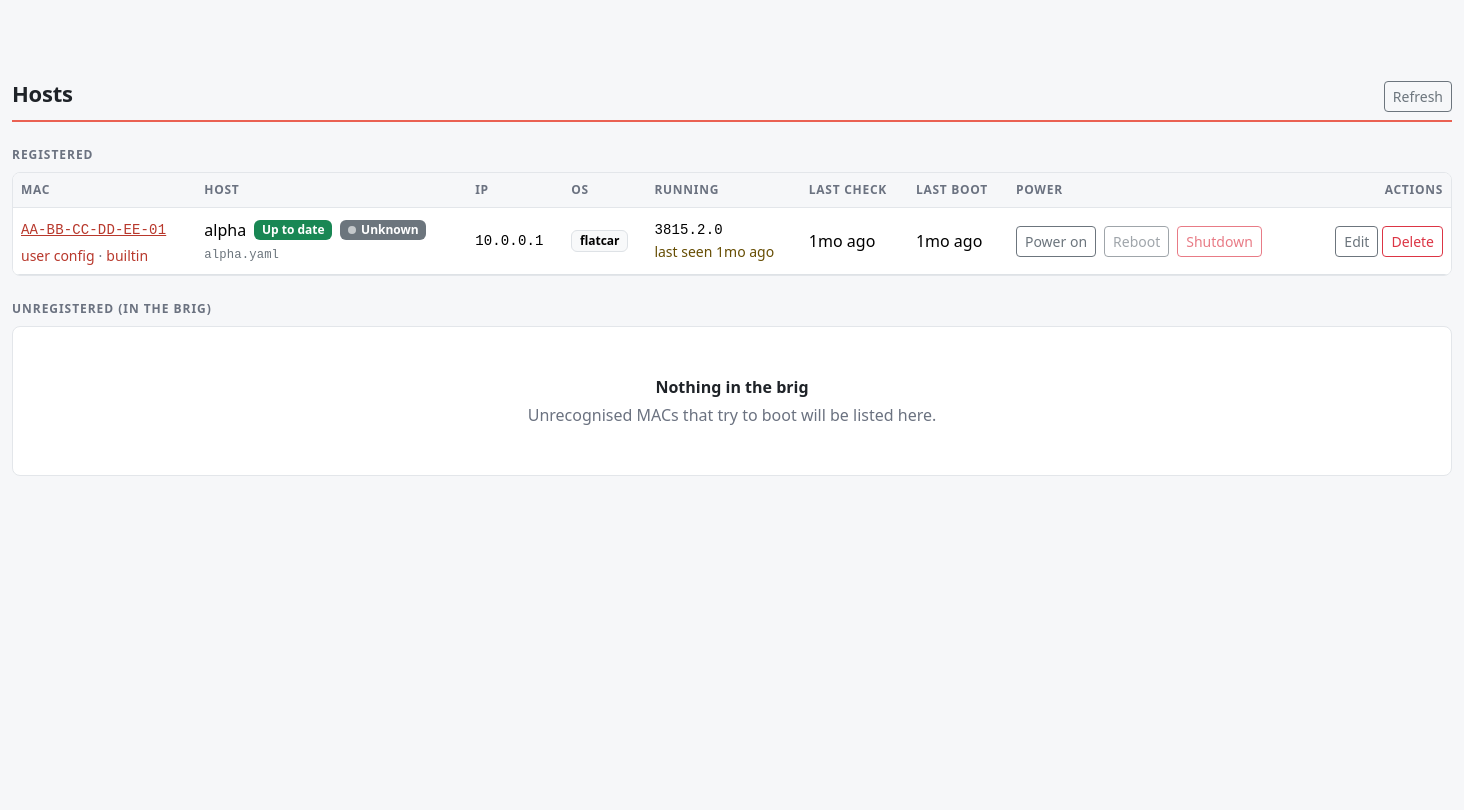
HostsView › replaces the row key with the normalized MAC returned by the server on save
Click the button "Edit": (1357, 241) [1335,226,1378,256]
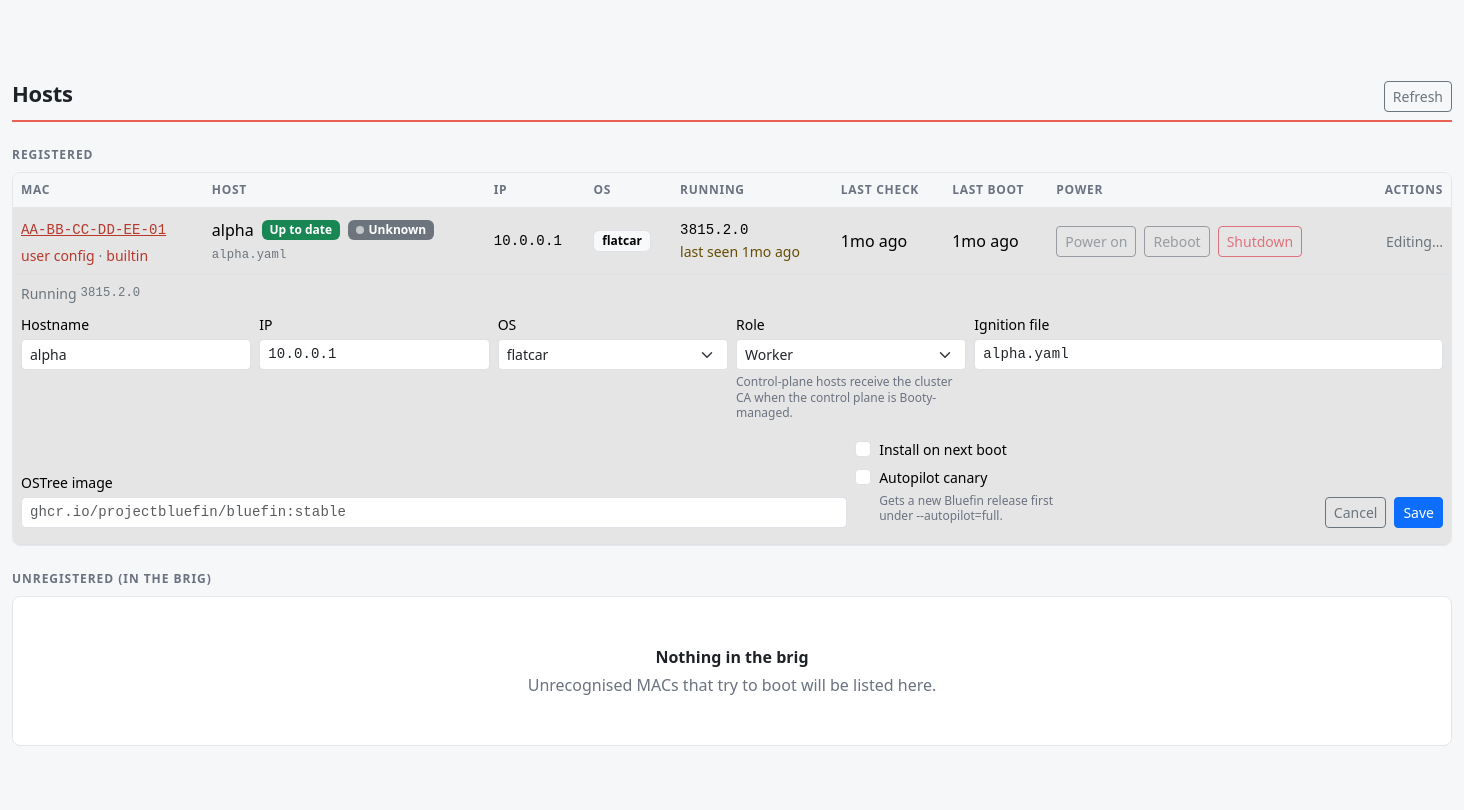
Replace the text in the field labelled "Hostname" with "alpha-2": (136, 354) [21,339,251,370]
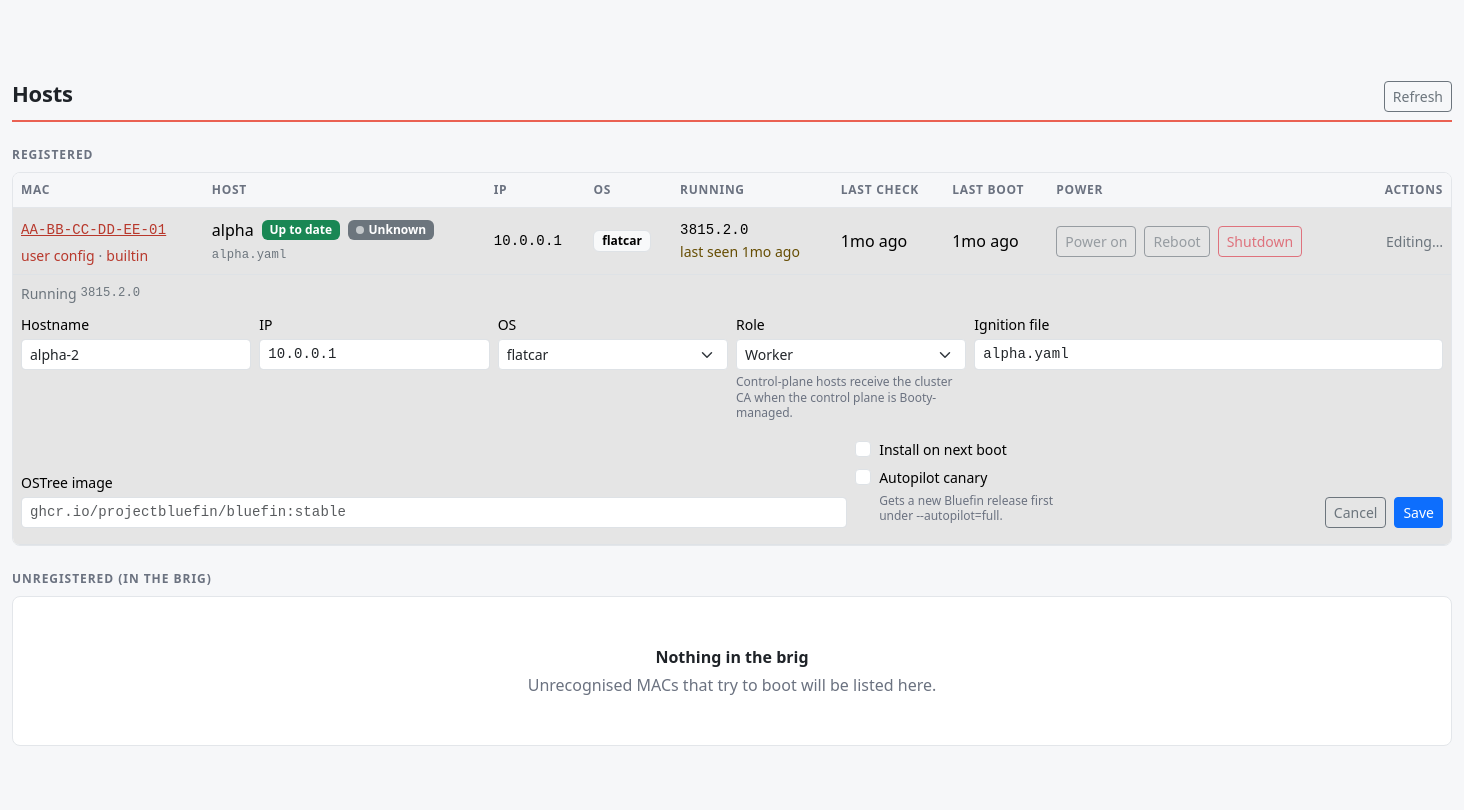
Submit the form, box [21,275,1443,536]
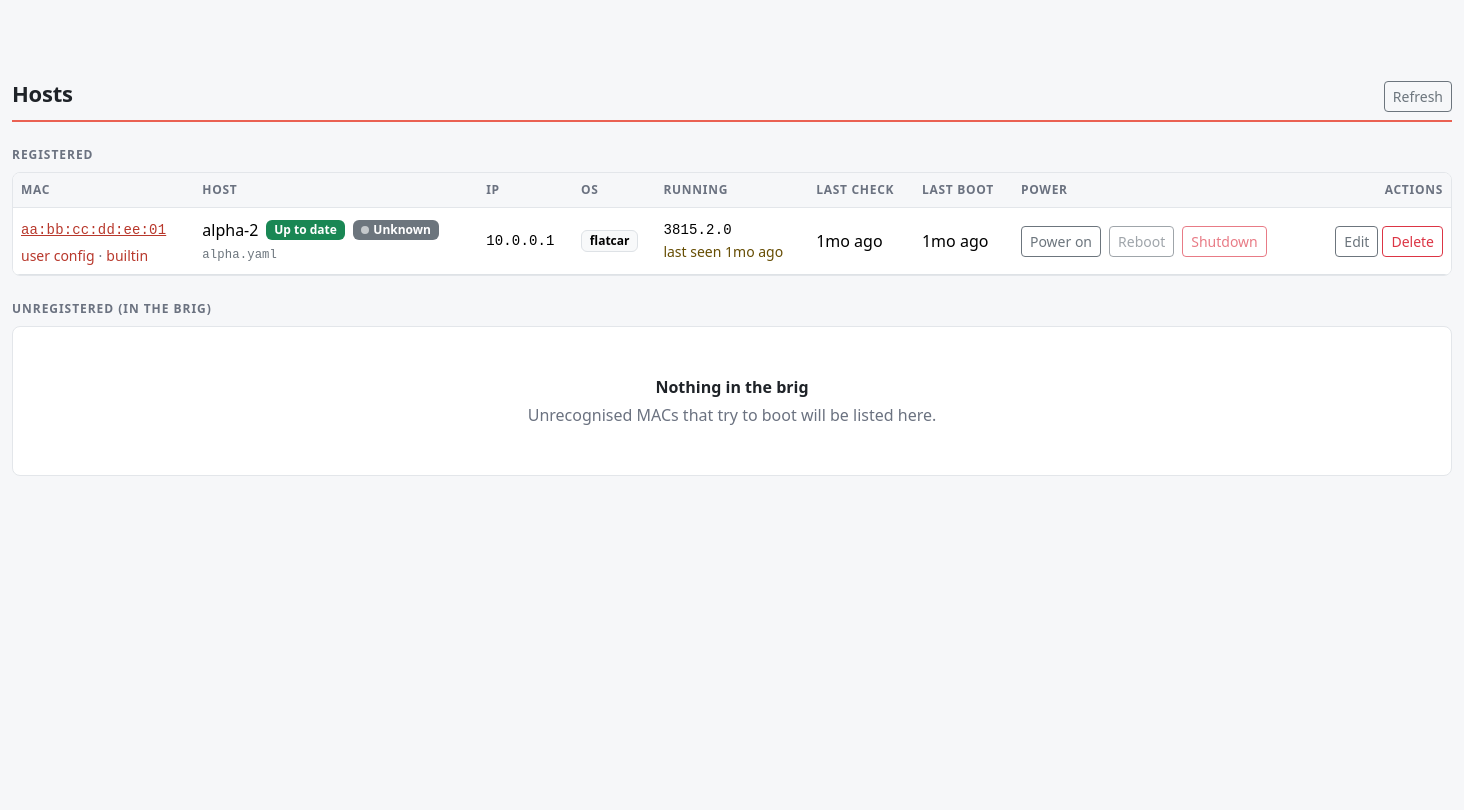
Result: the row that starts with "aa:bb:cc:dd:ee:01" is shown at [13,208,1451,274]
Result: the row that starts with "aa:bb:cc:dd:ee:01" shows "alpha-2" at [202,219,258,241]
